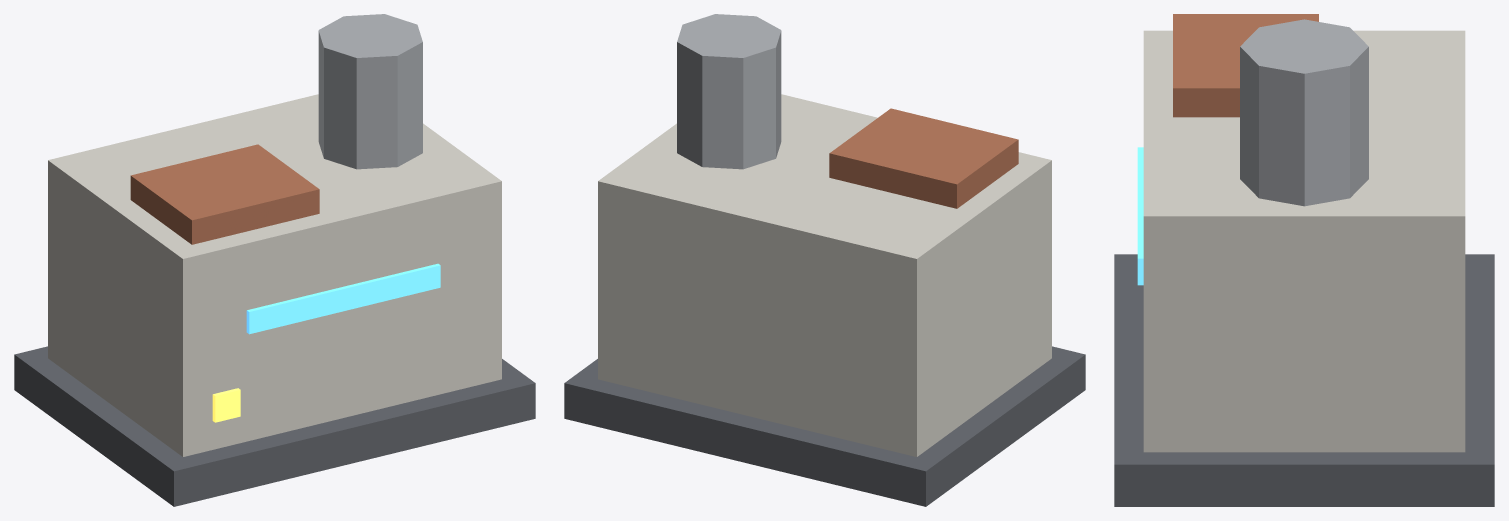
The model's file is Generator.glb.
3 renders of one model, left to right at view 1: azimuth 30°, elevation 25°; view 2: azimuth 150°, elevation 25°; view 3: azimuth 270°, elevation 25°, orthographic. The views are drawn at different scales.
Visible parts, largest first — view 1: Generator; view 2: Generator; view 3: Generator.
Boxes of the visible parts, box(x1,y1,x2,y2) form: Generator: box(14, 14, 535, 506); Generator: box(564, 14, 1085, 506); Generator: box(1114, 14, 1494, 506).
Size of the model in its own units: 1.7 by 1.55 by 1.3.
